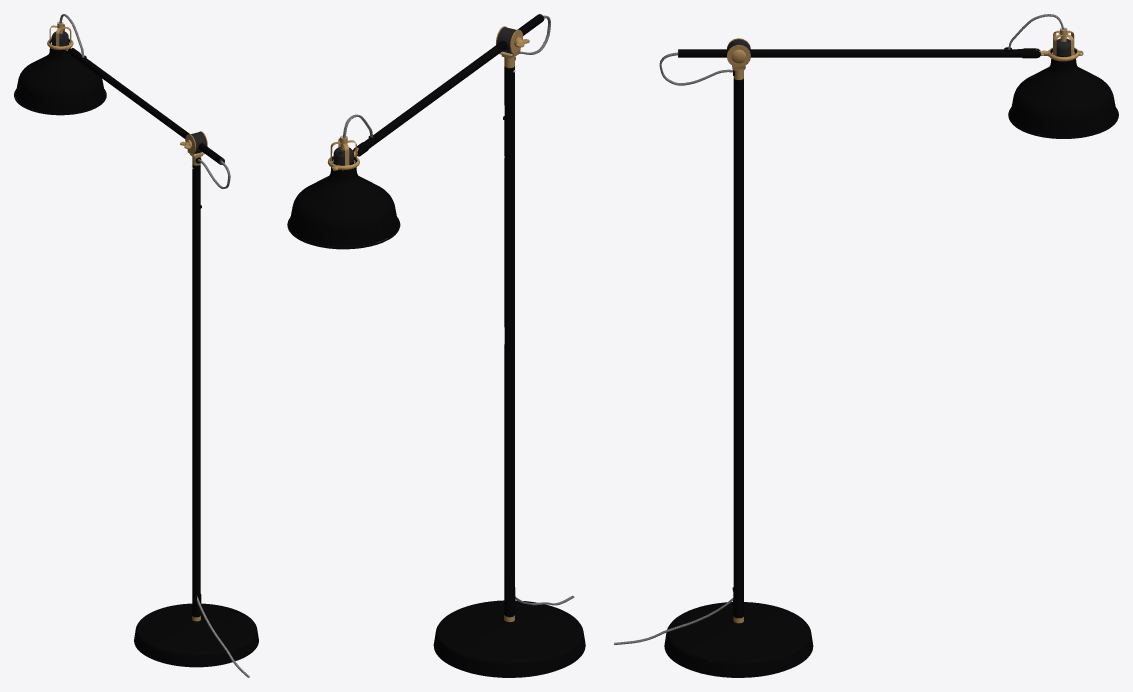
The model's file is 13 - RANARP Floorreading lamp - black.glb.
3 renders of one model, left to right at view 1: azimuth 30°, elevation 25°; view 2: azimuth 150°, elevation 25°; view 3: azimuth 270°, elevation 25°, orthographic. The views are drawn at different scales.
Visible parts, largest first — view 1: 90331374-RANARP001; view 2: 90331374-RANARP001; view 3: 90331374-RANARP001.
Boxes of the visible parts, left/top/right/bottom form: 90331374-RANARP001: left=14, top=14, right=258, bottom=677; 90331374-RANARP001: left=287, top=14, right=585, bottom=677; 90331374-RANARP001: left=614, top=14, right=1118, bottom=677.
Bounding box in the file's own units: 0.28 × 1.31 × 0.9494.
Materials: 1 (1 with a texture image).
